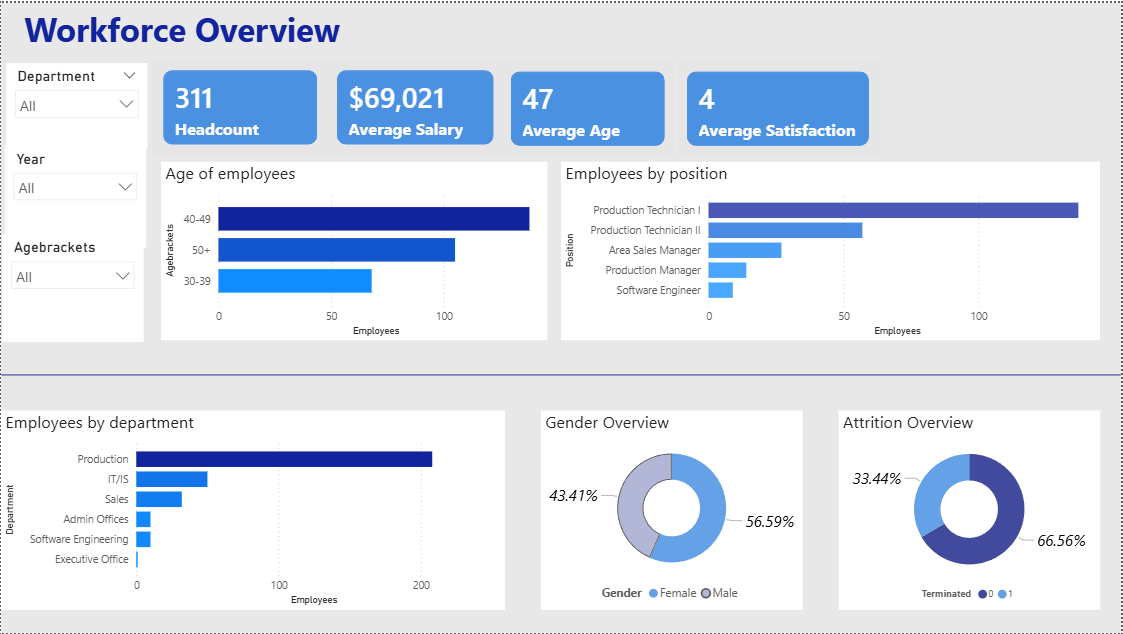

Layout of this report page (visuals, bound fields, positions):
{"tool":"powerbi","page":{"name":"Workforce overwier","canvas":[1280,720],"ordinal":0},"visuals":[{"type":"cardVisual","fields":{"Data":["Employee_dim.Headcount"]},"box":[168.6,60,210,119.3],"z":0,"group":"g1"},{"type":"barChart","title":"Employees by department","fields":{"Category":["departm_dim.Department"],"Y":["CountNonNull(Employee_dim.EmpID)"]},"box":[0,465.2,576.3,227.8],"z":0},{"type":"cardVisual","fields":{"Data":["Employee_dim.Avg Salary"]},"box":[367.3,60,213.8,119.7],"z":1000,"group":"g1"},{"type":"barChart","title":"Employees by position","fields":{"Y":["CountNonNull(Employee_dim.EmpID)"],"Category":["position_dim.Position"]},"box":[640,181.4,615.7,204.3],"z":1000},{"type":"cardVisual","fields":{"Data":["Employee_dim.Avg satisfaction"]},"box":[767.5,61.4,242.9,119.4],"z":2000,"group":"g1"},{"type":"barChart","title":"Age of employees","fields":{"Y":["CountNonNull(Employee_dim.EmpID)"],"Category":["Employee_dim.Agebrackets"]},"box":[182.9,181.4,441.4,204.3],"z":2000},{"type":"donutChart","title":"Gender Overview","fields":{"Category":["Employee_dim.Sex"],"Y":["CountNonNull(Employee_dim.EmpID)"]},"box":[617.5,465.2,299.1,227.8],"z":3000},{"type":"textbox","box":[21.4,0,431.4,68.6],"z":4000},{"type":"group","id":"g1","title":"Group 1","box":[168.6,60,841.8,120.8],"z":5000},{"type":"group","id":"g2","title":"Group 2","box":[1.9,68.6,165.5,319.2],"z":6000},{"type":"slicer","fields":{"Values":["departm_dim.Department"]},"box":[6,68.6,161.4,99.5],"z":7000,"group":"g2"},{"type":"shape","box":[0,395.7,1280,58.6],"z":7000},{"type":"cardVisual","fields":{"Data":["Avg(Employee_dim.Age)"]},"box":[565.3,61.3,210,119.3],"z":8000,"group":"g1"},{"type":"slicer","fields":{"Values":["dim_date.Year"]},"box":[4.7,163.5,161.4,117.1],"z":8000,"group":"g2"},{"type":"donutChart","title":"Attrition Overview","fields":{"Y":["CountNonNull(Employee_dim.EmpID)"],"Category":["employee_fact.Termd"]},"box":[956.4,465.2,299.1,227.8],"z":8000},{"type":"slicer","fields":{"Values":["Employee_dim.Agebrackets"]},"box":[1.9,264.9,161.4,122.9],"z":9000,"group":"g2"}]}

Visuals, with their boxes in screenshot pixels (x1, y1, x2, y2), scaled from the page's 1280x720 canvas onto the 1123x634 screenshot:
cardVisual - Employee_dim.Headcount: [left=148, top=53, right=332, bottom=158]
"Employees by department" barChart: [left=0, top=410, right=506, bottom=610]
cardVisual - Employee_dim.Avg Salary: [left=322, top=53, right=510, bottom=158]
"Employees by position" barChart: [left=562, top=160, right=1102, bottom=340]
cardVisual - Employee_dim.Avg satisfaction: [left=673, top=54, right=886, bottom=159]
"Age of employees" barChart: [left=160, top=160, right=548, bottom=340]
"Gender Overview" donutChart: [left=542, top=410, right=804, bottom=610]
textbox: [left=19, top=0, right=397, bottom=60]
"Group 1" group: [left=148, top=53, right=886, bottom=159]
"Group 2" group: [left=2, top=60, right=147, bottom=341]
slicer - departm_dim.Department: [left=5, top=60, right=147, bottom=148]
shape: [left=0, top=348, right=1122, bottom=400]
cardVisual - Avg(Employee_dim.Age): [left=496, top=54, right=680, bottom=159]
slicer - dim_date.Year: [left=4, top=144, right=146, bottom=247]
"Attrition Overview" donutChart: [left=839, top=410, right=1102, bottom=610]
slicer - Employee_dim.Agebrackets: [left=2, top=233, right=143, bottom=341]
